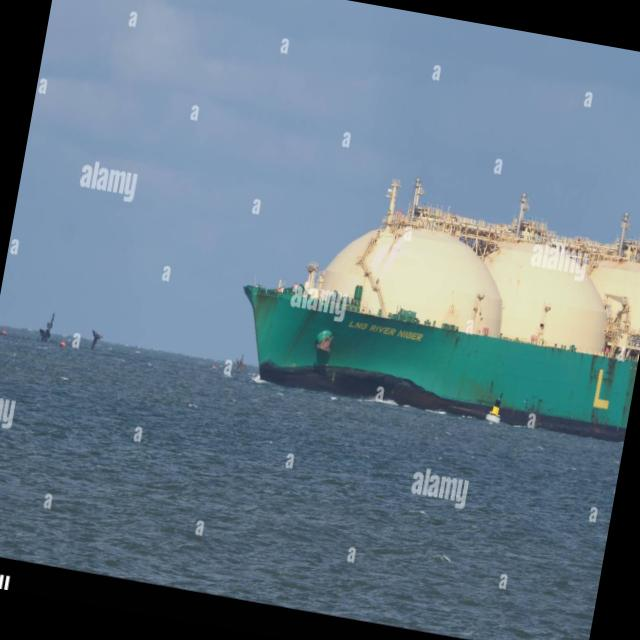boat: (216, 120, 640, 465)
